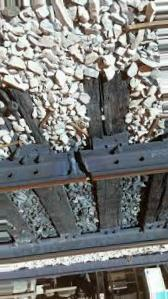tracks_fault: (62, 147, 107, 191)
